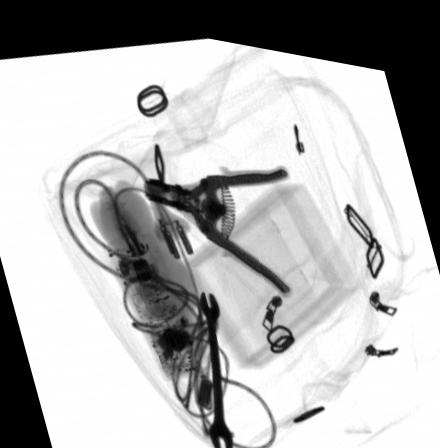Pliers: (143, 154, 294, 286)
Wrench: (198, 280, 232, 443)
